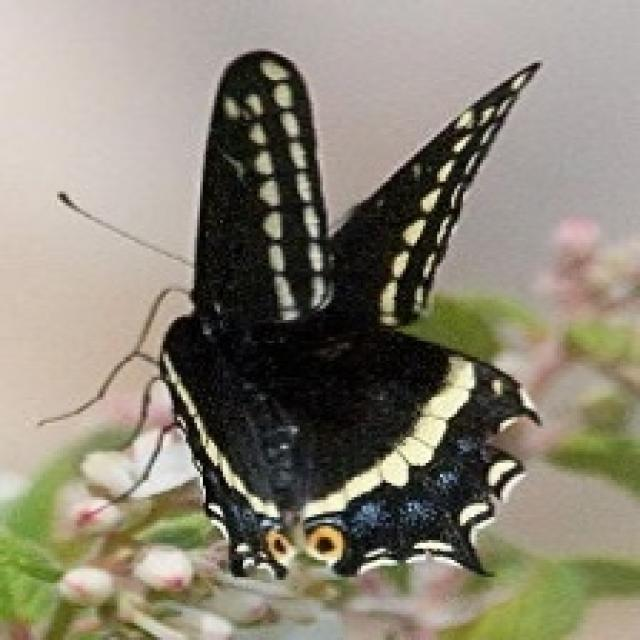butterfly: (34, 46, 543, 583)
